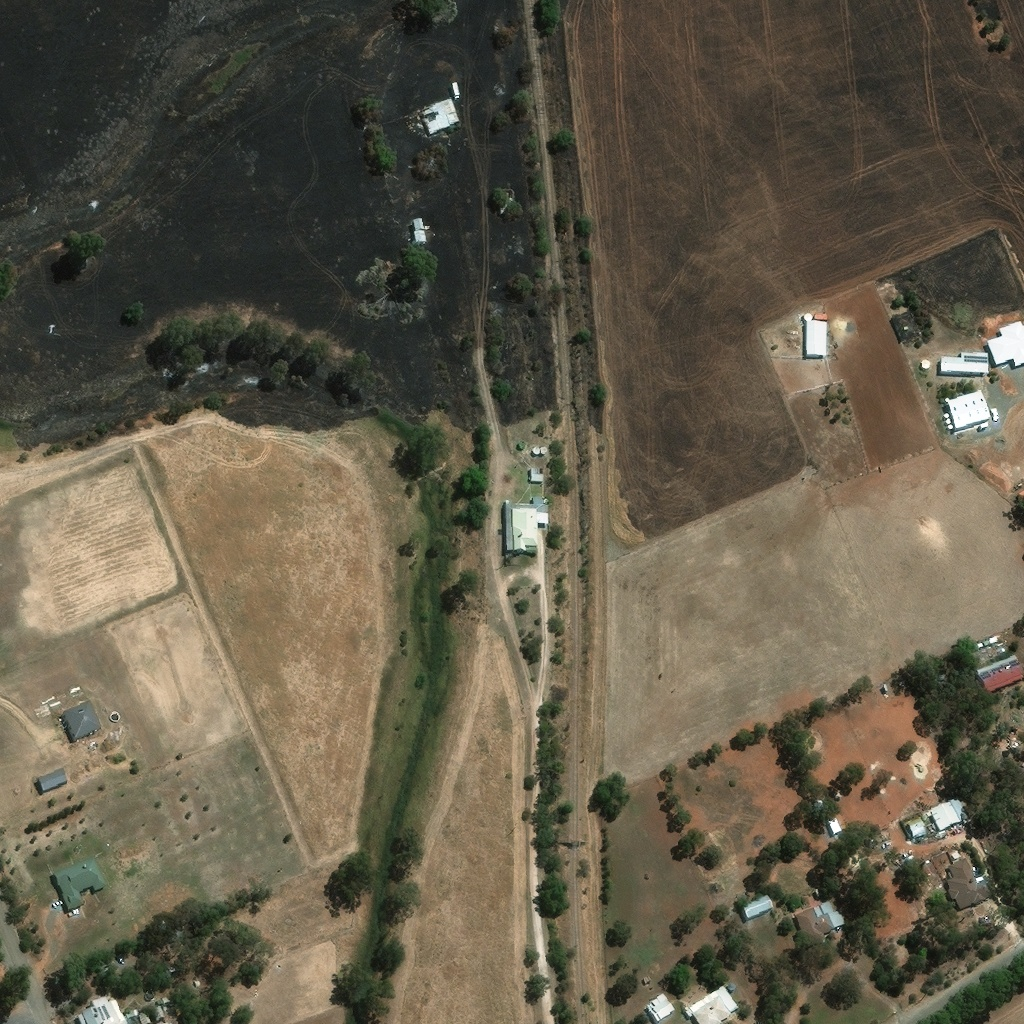0 no-damage: (51, 856, 106, 911), (504, 497, 549, 556), (684, 979, 738, 1023), (946, 857, 990, 908), (976, 654, 1023, 693), (947, 390, 991, 431), (794, 906, 835, 945), (422, 96, 460, 134), (61, 701, 99, 738), (928, 797, 968, 830), (940, 351, 989, 373), (650, 990, 676, 1021), (742, 893, 773, 918), (805, 323, 827, 357), (36, 769, 67, 792), (908, 816, 925, 836), (827, 816, 844, 836), (413, 217, 426, 241), (451, 80, 461, 97), (530, 467, 542, 481), (160, 995, 172, 1006), (920, 359, 931, 369), (193, 978, 202, 988), (532, 448, 546, 454), (643, 972, 652, 981), (802, 314, 812, 322), (979, 422, 989, 430), (882, 684, 889, 692)
1 minor-damage: (499, 188, 514, 212)
3 destroyed: (890, 308, 922, 343)
